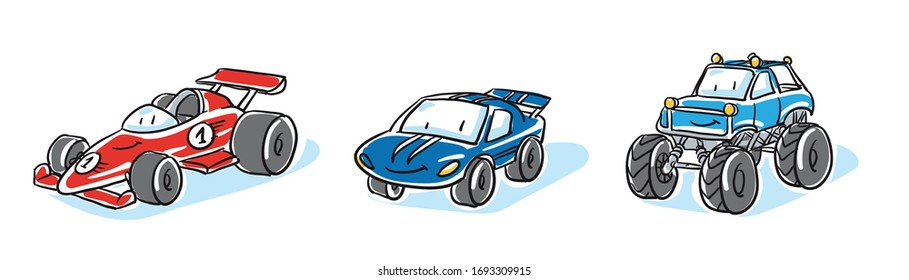car: (23, 59, 312, 212), (623, 47, 835, 215), (352, 85, 551, 211)
